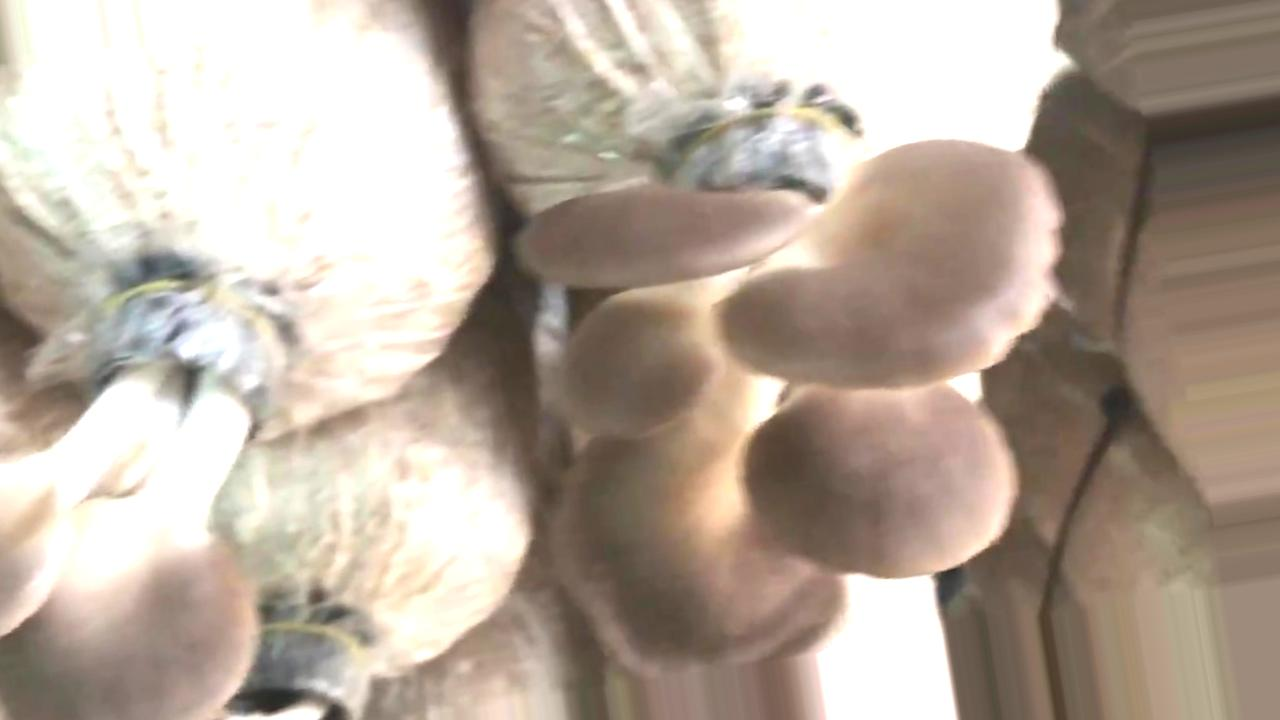nam: (517, 105, 1060, 672), (1, 285, 301, 720)
